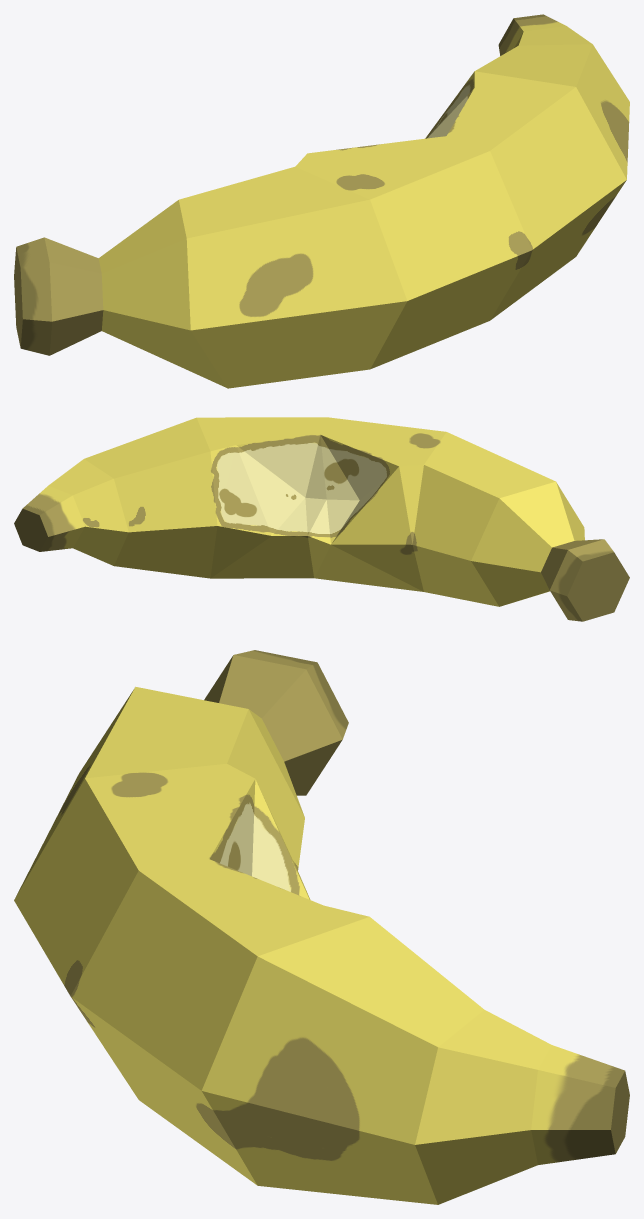
Rendered from Banana.fbx.
3 renders of one model, top to bottom at view 1: azimuth 30°, elevation 25°; view 2: azimuth 150°, elevation 25°; view 3: azimuth 270°, elevation 25°, orthographic. The views are drawn at different scales.
Visible parts, largest first — view 1: Circle; view 2: Circle; view 3: Circle.
Part boxes in pixels (left/top/right/bottom): Circle: left=14, top=14, right=629, bottom=388; Circle: left=14, top=417, right=629, bottom=621; Circle: left=14, top=650, right=629, bottom=1204.
Bounding box in the file's own units: 1532 × 366 × 891.
